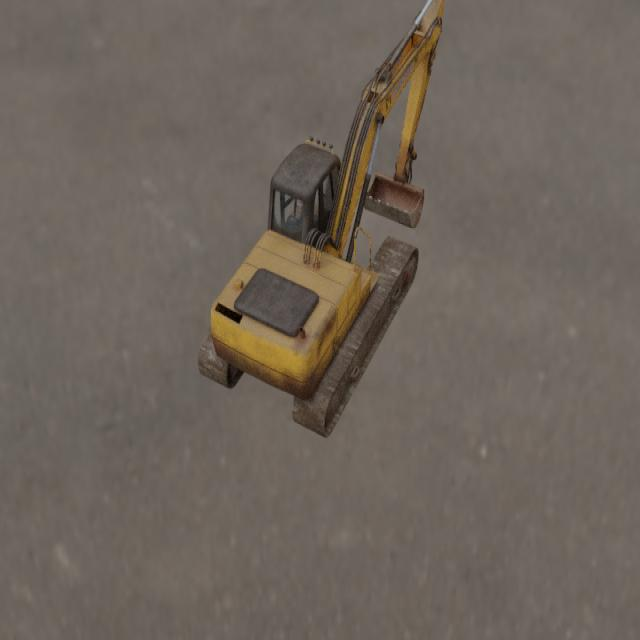excavator: (197, 0, 445, 439)
